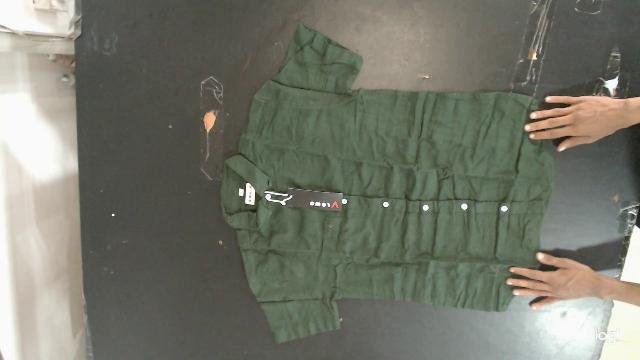new-garment: (221, 25, 553, 342)
